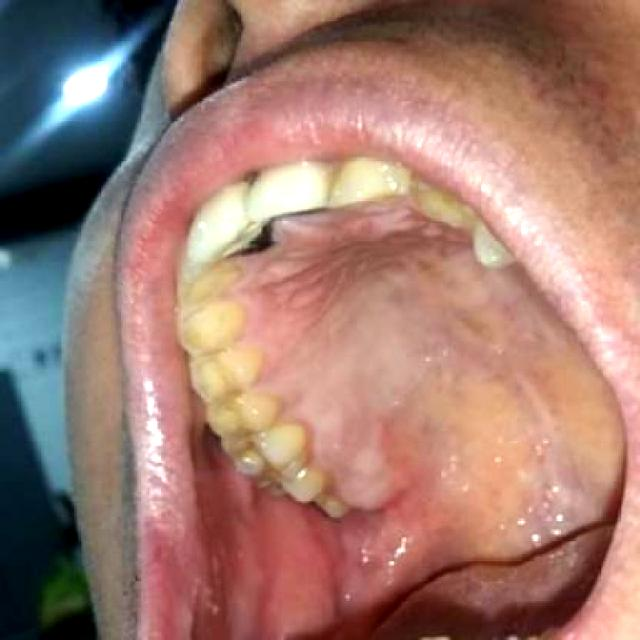Plaque: (289, 420, 308, 469), (220, 403, 239, 417), (328, 496, 352, 506), (317, 469, 325, 490)
